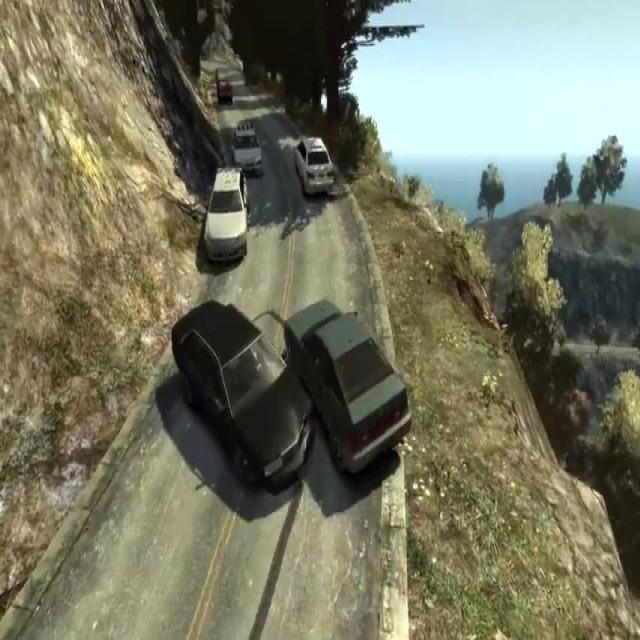moderate: (164, 288, 418, 496)
